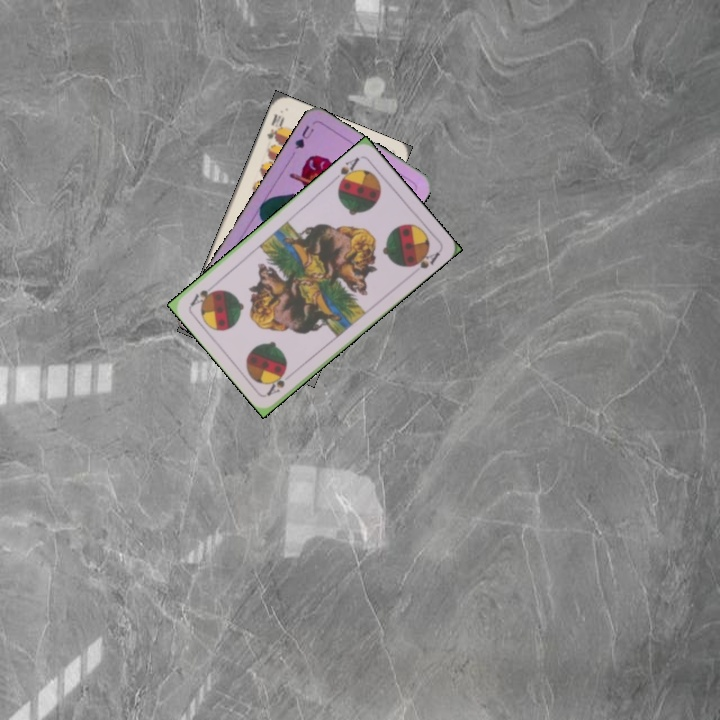E10: (263, 110, 287, 144)
GU: (291, 121, 317, 152)
SA: (329, 153, 362, 189), (263, 367, 289, 398)
